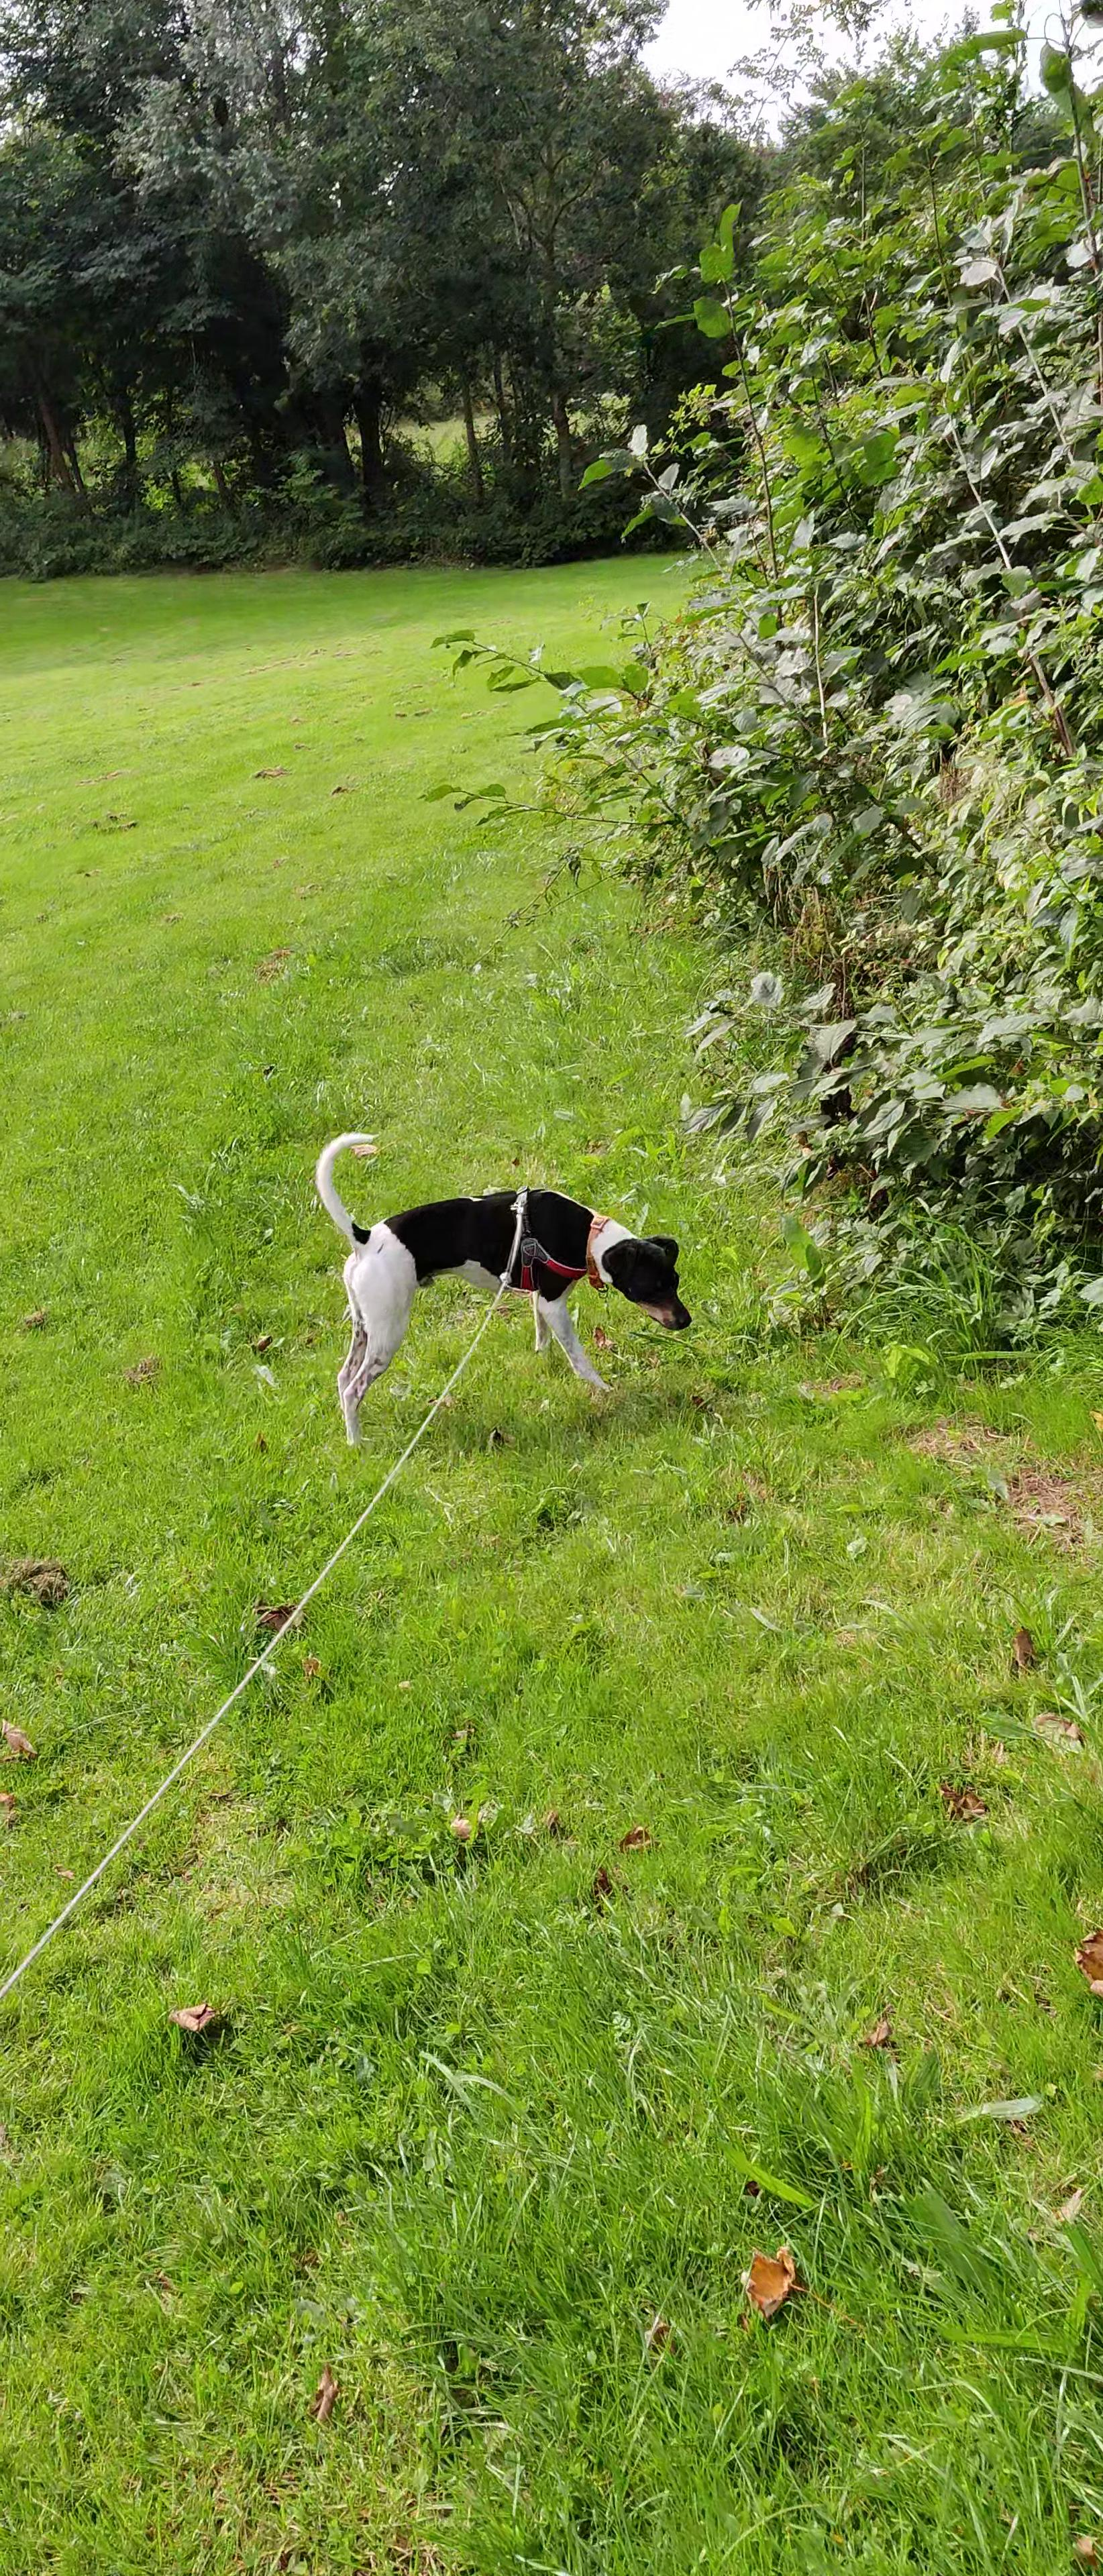Dog: (307, 1124, 694, 1446)
